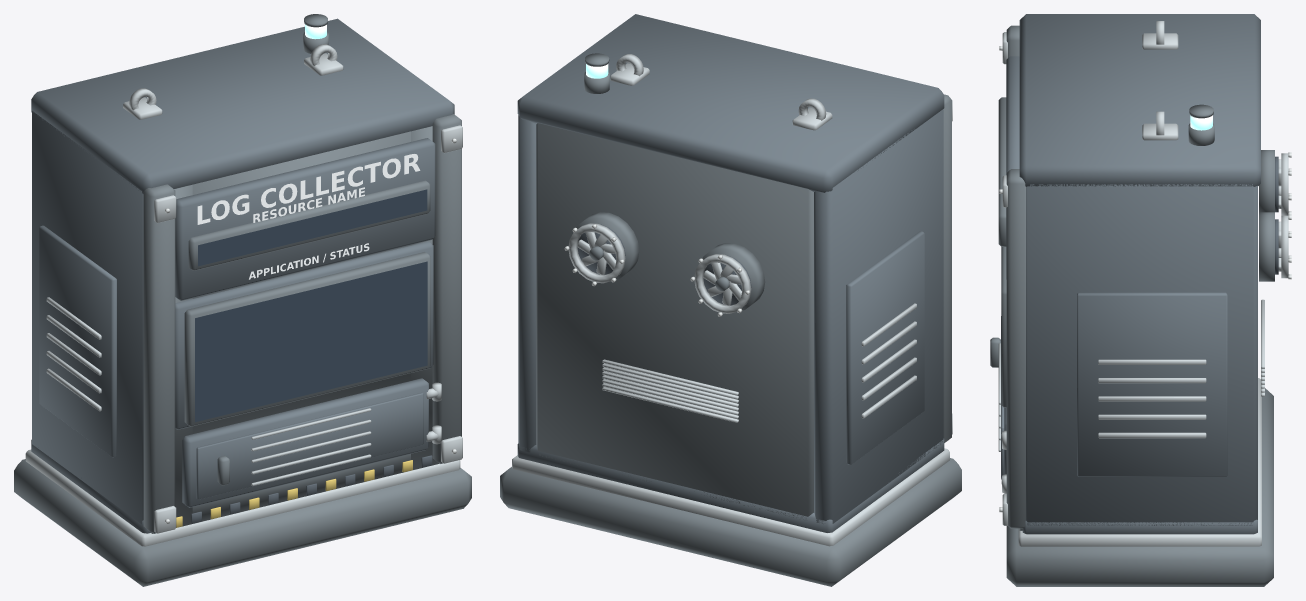
The model's file is log_collector_standard.glb.
The picture shows the model from 3 angles, left to right: view 1: azimuth 30°, elevation 25°; view 2: azimuth 150°, elevation 25°; view 3: azimuth 270°, elevation 25°; orthographic projection. The views are drawn at different scales.
Parts seen in each view (by area): view 1: Roof_graphite, LiveViewSurface_glass, SideWall_graphite, CornerPost_frame, Skid_frame, FrontHeader_graphite, SideServicePanel_graphite, DoorMoving_Inset_graphite, DoorMoving_Panel_graphite, SkidDeck_steel, LiveViewSurfaceFrame_frame, ResourceNameSurface_glass (+15 smaller); view 2: BackWall_frame, Roof_graphite, SideWall_graphite, Skid_frame, SideServicePanel_graphite, SkidDeck_steel, KickPlate_graphite, RearFan_steel, RearVent_steel, CornerPost_frame, RearFan_frame, SideLouver_steel (+3 smaller); view 3: SideWall_graphite, Roof_graphite, SideServicePanel_graphite, Skid_frame, CornerPost_frame, SkidDeck_steel, SideLouver_steel, KickPlate_graphite, RearFan_frame, FrontHeader_graphite, RearFan_steel, ResourceNameSurfaceFrame_frame (+6 smaller).
Part boxes in pixels (x1,y1,x2,y2): Roof_graphite: [31, 18, 454, 193]; LiveViewSurface_glass: [195, 261, 427, 422]; SideWall_graphite: [32, 111, 143, 524]; CornerPost_frame: [143, 114, 461, 533]; Skid_frame: [14, 459, 471, 586]; FrontHeader_graphite: [175, 138, 435, 300]; SideServicePanel_graphite: [39, 225, 116, 457]; DoorMoving_Inset_graphite: [196, 393, 423, 499]; DoorMoving_Panel_graphite: [182, 378, 428, 507]; SkidDeck_steel: [25, 449, 460, 546]; LiveViewSurfaceFrame_frame: [184, 252, 430, 426]; ResourceNameSurface_glass: [198, 189, 427, 266]; BackWall_frame: [536, 123, 813, 519]; Roof_graphite: [517, 14, 944, 192]; SideWall_graphite: [518, 109, 943, 523]; Skid_frame: [500, 458, 961, 586]; SideServicePanel_graphite: [846, 231, 924, 464]; SkidDeck_steel: [512, 448, 949, 546]; KickPlate_graphite: [517, 438, 944, 532]; RearFan_steel: [568, 223, 751, 313]; RearVent_steel: [602, 359, 738, 422]; CornerPost_frame: [943, 94, 951, 442]; RearFan_frame: [576, 212, 765, 312]; SideLouver_steel: [861, 303, 916, 418]; SideWall_graphite: [1026, 184, 1257, 525]; Roof_graphite: [1019, 14, 1260, 186]; SideServicePanel_graphite: [1077, 292, 1227, 476]; Skid_frame: [1006, 388, 1273, 586]; CornerPost_frame: [1006, 25, 1025, 528]; SkidDeck_steel: [1018, 378, 1261, 546]; SideLouver_steel: [1098, 359, 1206, 438]; KickPlate_graphite: [1022, 519, 1257, 534]; RearFan_frame: [1259, 150, 1274, 281]; FrontHeader_graphite: [1006, 56, 1019, 279]; RearFan_steel: [1278, 153, 1288, 278]; ResourceNameSurfaceFrame_frame: [998, 97, 1006, 246].
Size of the model in its own units: 2 by 2.48 by 1.51.
